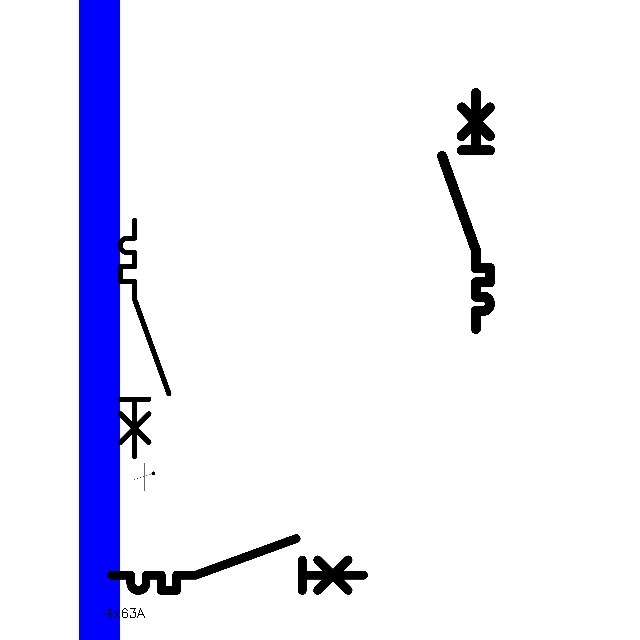interruptor_termomagnetico: (105, 532, 370, 597), (114, 214, 175, 462), (436, 87, 496, 335)
